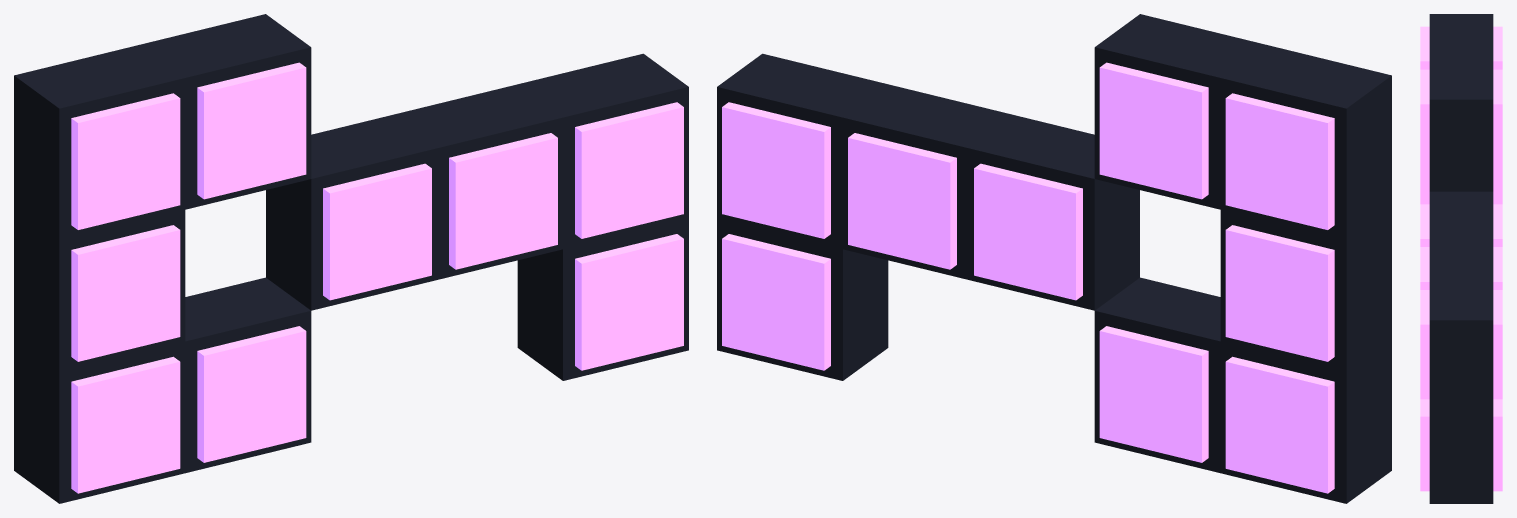
The picture shows the model from 3 angles, left to right: view 1: azimuth 30°, elevation 25°; view 2: azimuth 150°, elevation 25°; view 3: azimuth 270°, elevation 25°; orthographic projection. The views are drawn at different scales.
Visible parts, largest first — view 1: pixel_sprite_key.lod1; view 2: pixel_sprite_key.lod1; view 3: pixel_sprite_key.lod1.
Boxes of the visible parts, x1,y1,x2,y2 form: pixel_sprite_key.lod1: [14, 14, 688, 503]; pixel_sprite_key.lod1: [717, 14, 1391, 503]; pixel_sprite_key.lod1: [1420, 14, 1502, 503].
Size of the model in its own units: 0.8 by 0.48 by 0.13.
